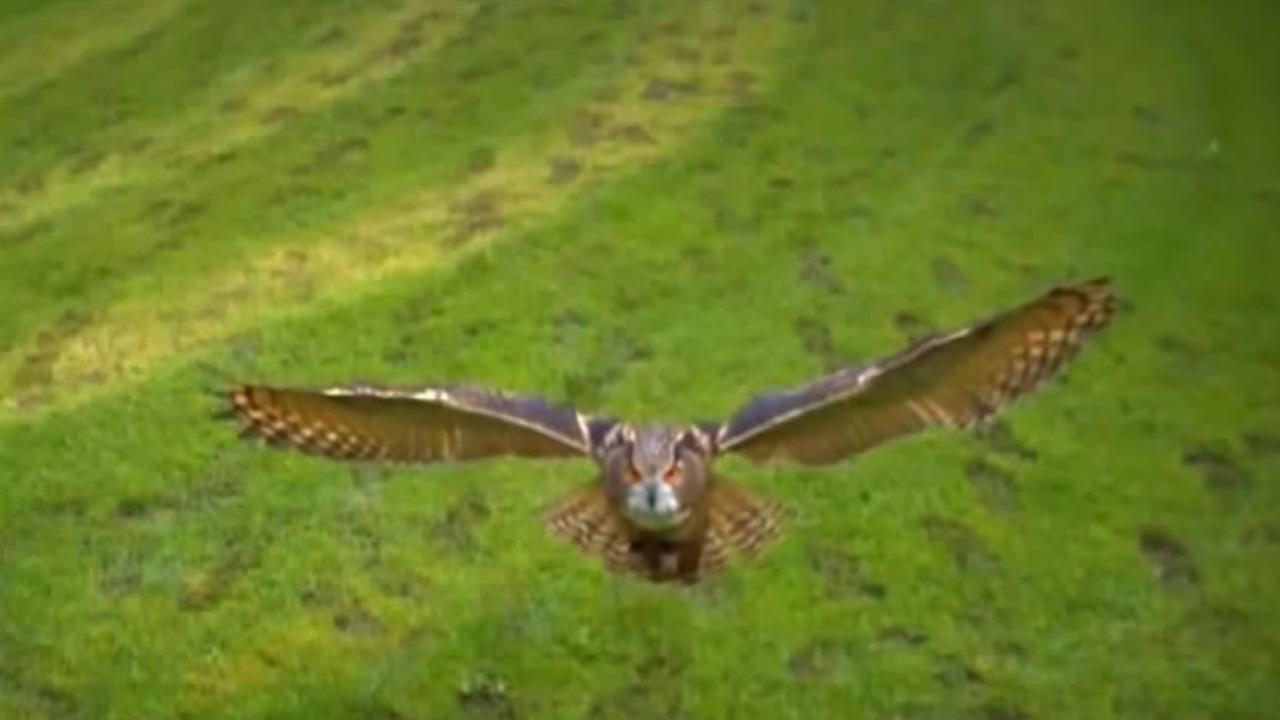Bird: (197, 266, 1134, 605)
